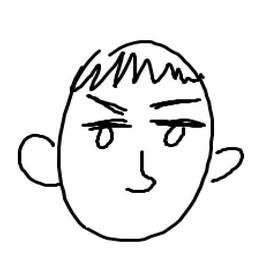ear: (12, 132, 66, 192), (207, 145, 245, 182)
empty_eye: (80, 120, 125, 160), (157, 119, 193, 151)
eyebrow: (147, 94, 202, 111)
frowning_eyebrow: (87, 93, 128, 116)
nose: (122, 147, 159, 199)
